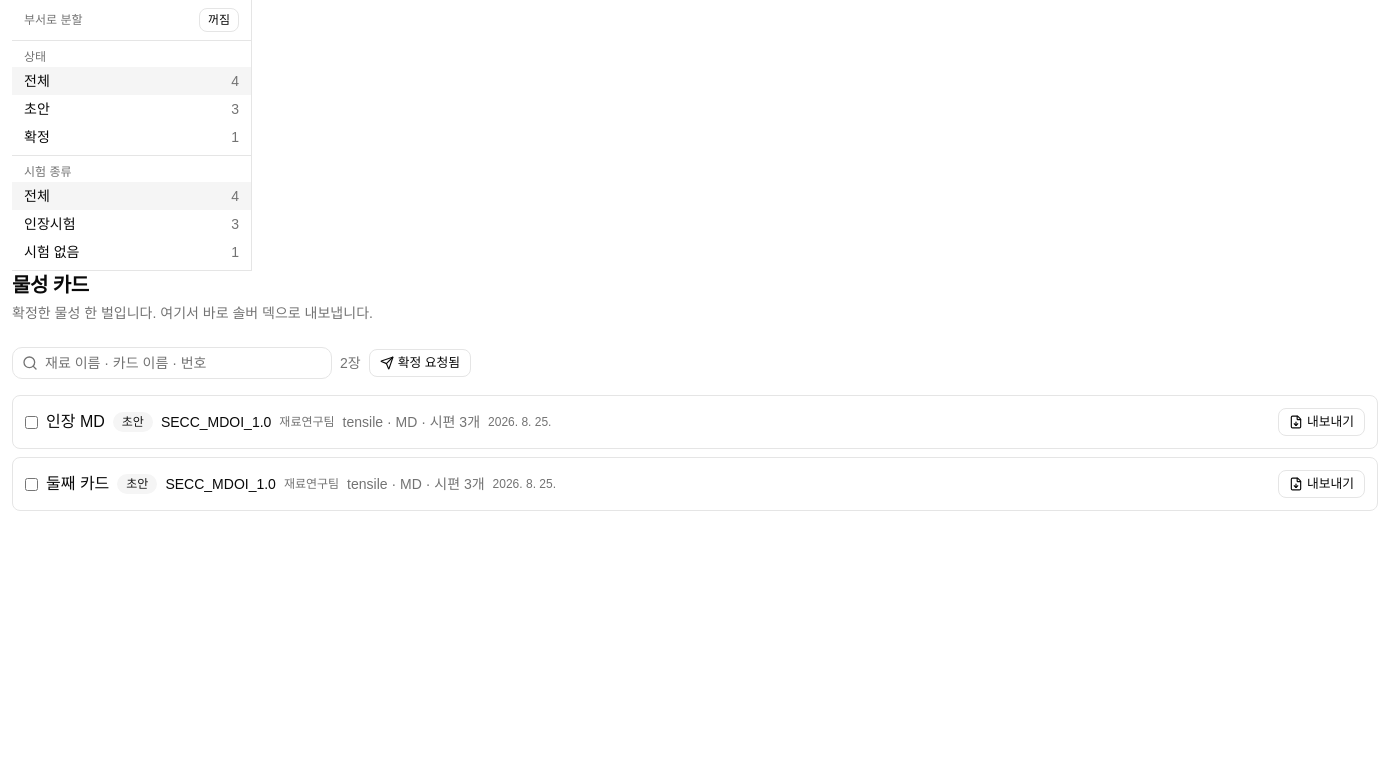
it: 묶음 내보내기 › 무엇이 함께 들어가는지 미리 말한다
Step 1. Click the checkbox named "인장 MD 묶음에 추가" → (32, 422), box [25,416,38,428]
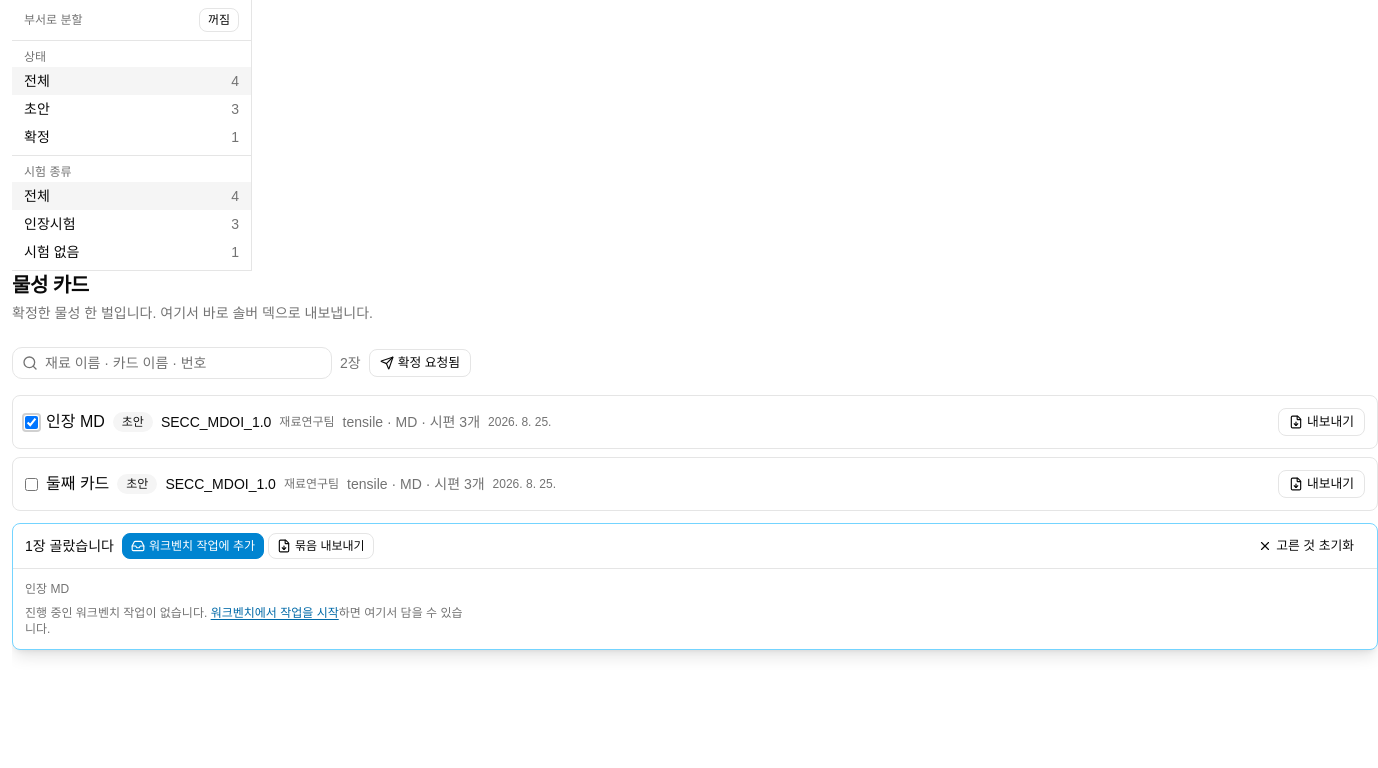
Step 2. Click the tab "묶음 내보내기" → (321, 546), box [268,533,374,559]
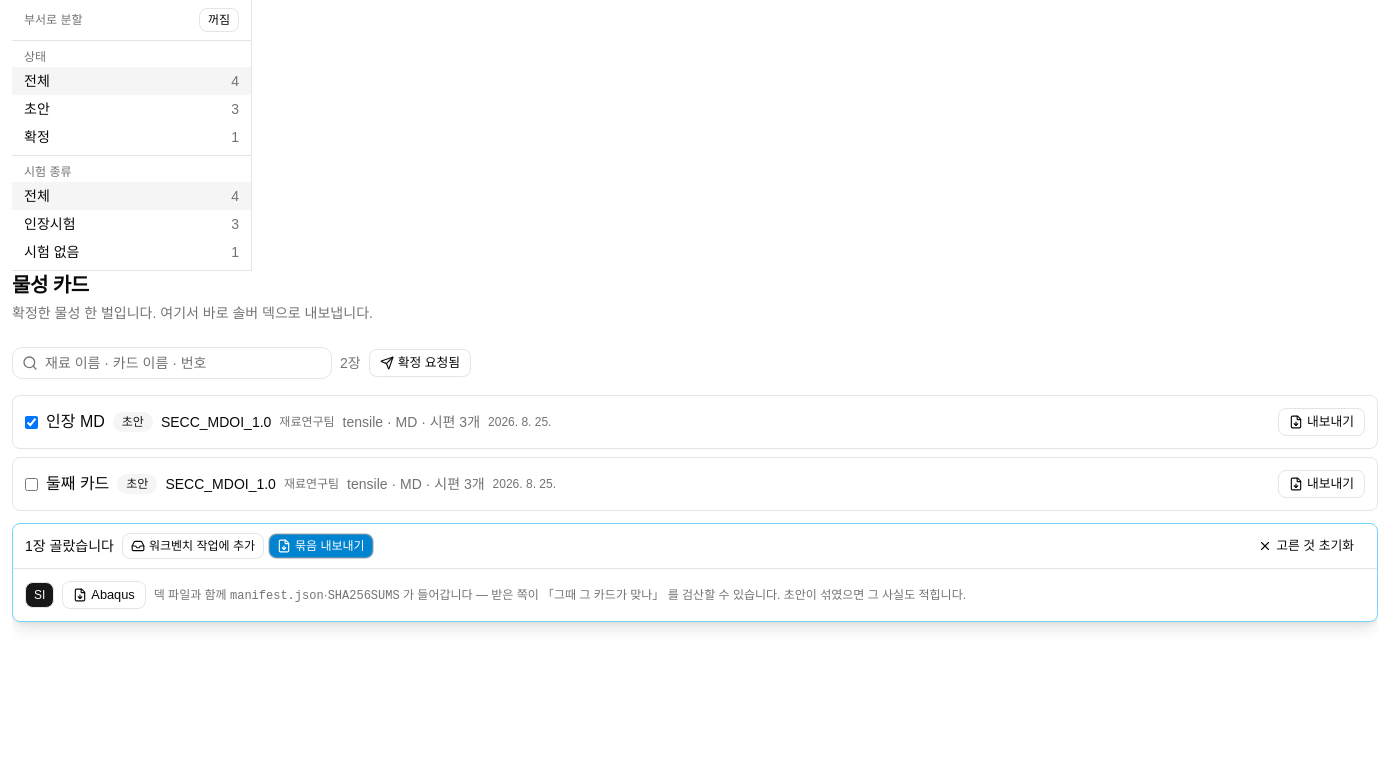
Now the text "manifest.json" is shown, box [230,588,324,602]
Now the text "SHA256SUMS" is shown, box [328,588,400,602]
